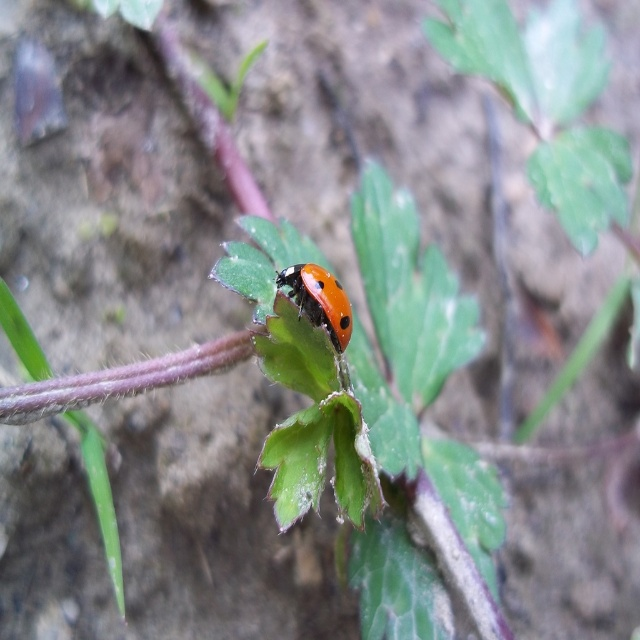Ladybug: (272, 263, 353, 355)
